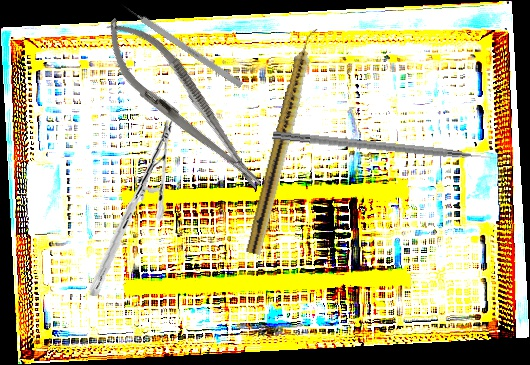Handpiece: (245, 25, 322, 257)
Hook Surgical: (118, 0, 244, 89), (272, 129, 509, 167)
Needle Holder: (89, 4, 278, 206), (75, 119, 188, 297)
